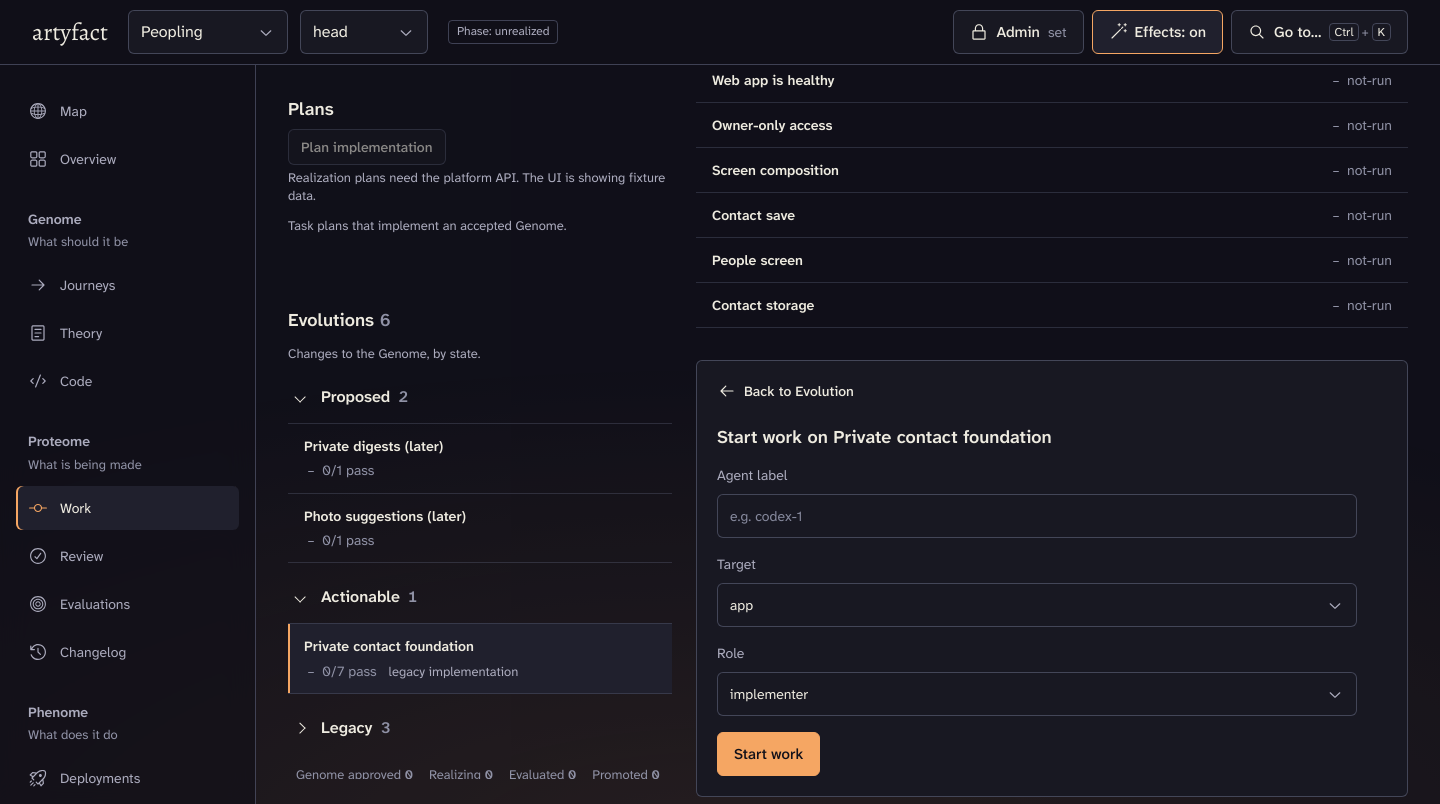
StartWorkPanel against the API › submits, then shows the packet and the command once
(page scrolled)
Type "codex-1" into the field labelled "Agent label" at (1037, 516), box [717,494,1357,538]
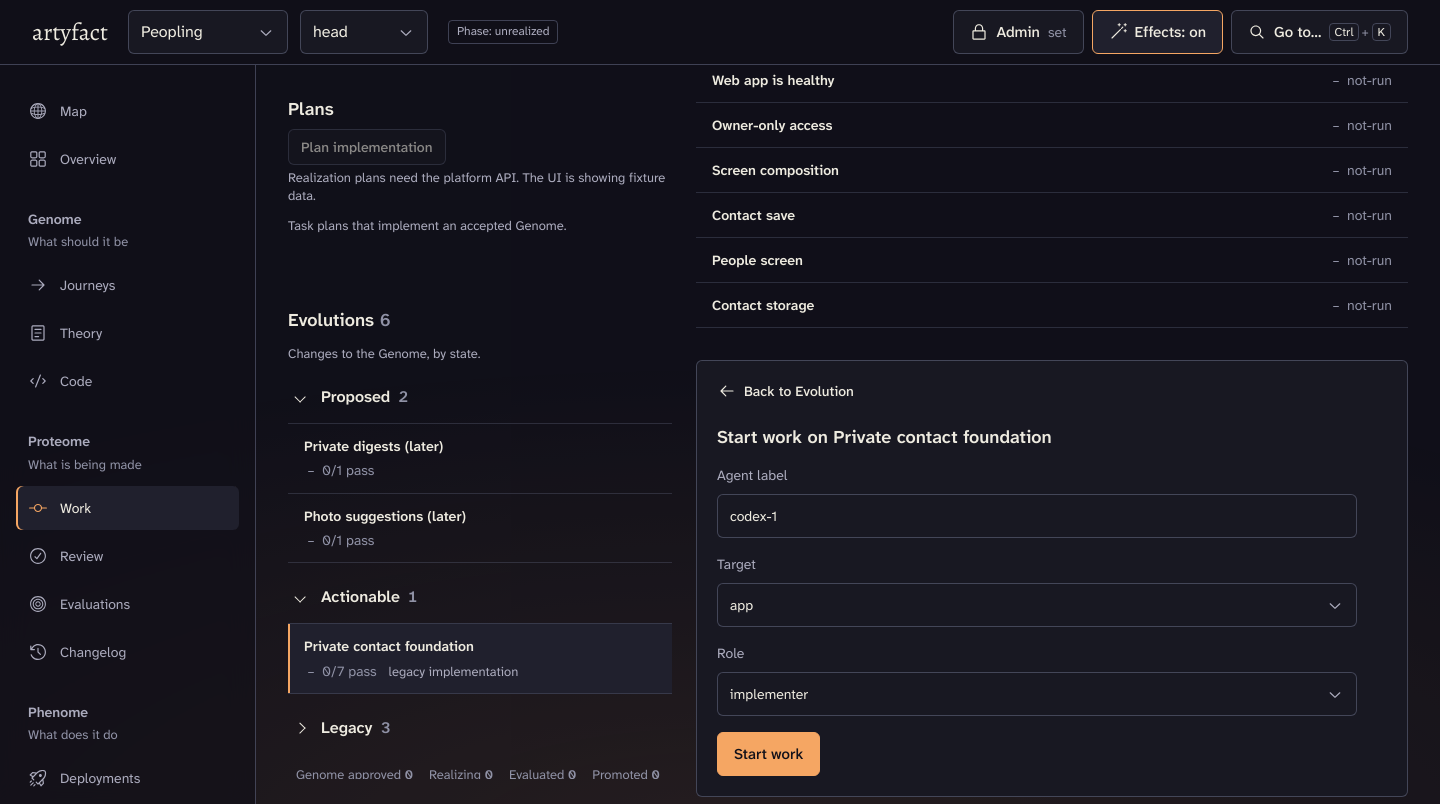
Click the button "Start work" at (769, 754), box [717,732,820,776]
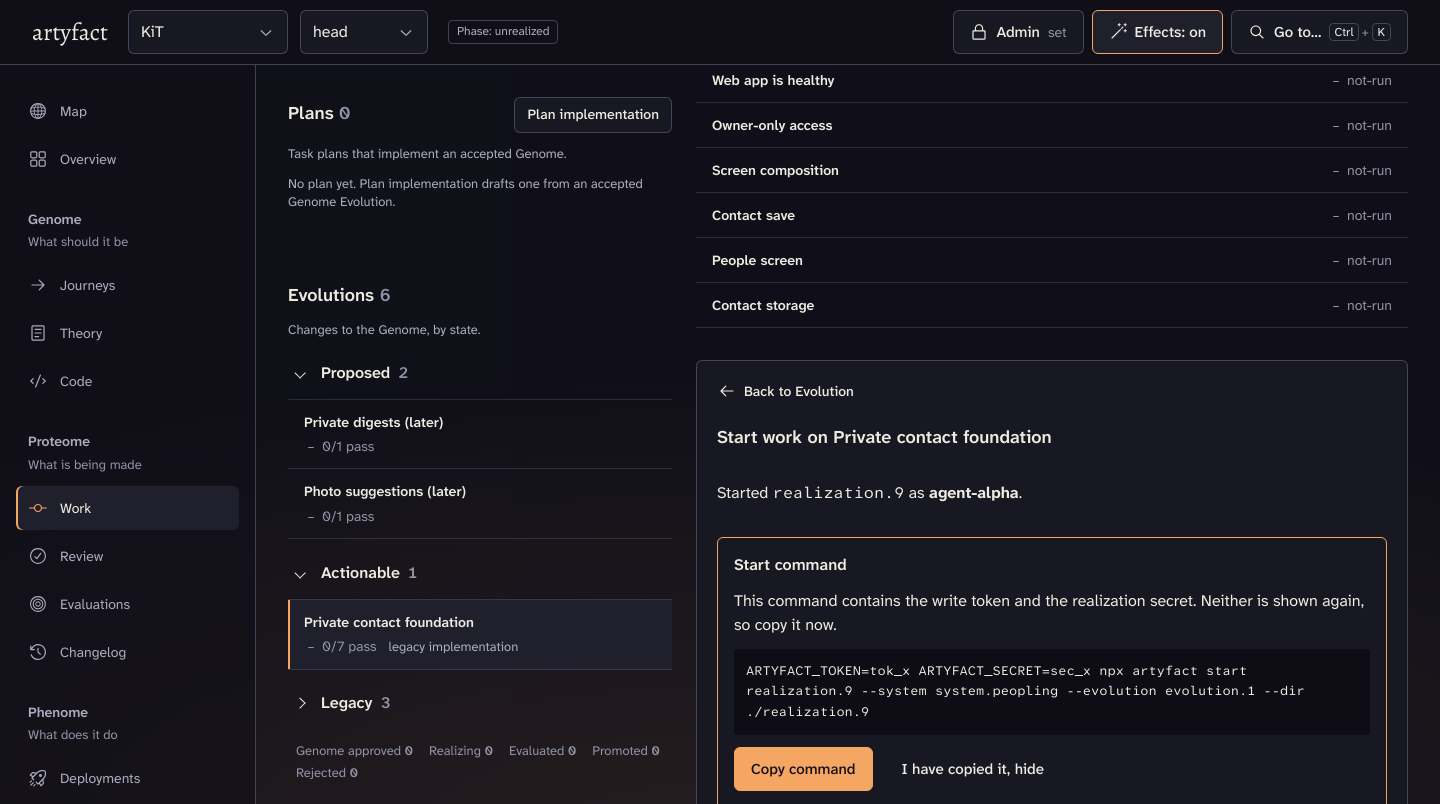
Result: the text "ARTYFACT_TOKEN=tok_x ARTYFACT_SECRET=sec_x npx artyfact start realization.9 --system system.peopling --evolution evoluti" is shown once at [746,662,1313,720]
Result: the text "Neither is shown again" is shown at [734,590,1364,635]
